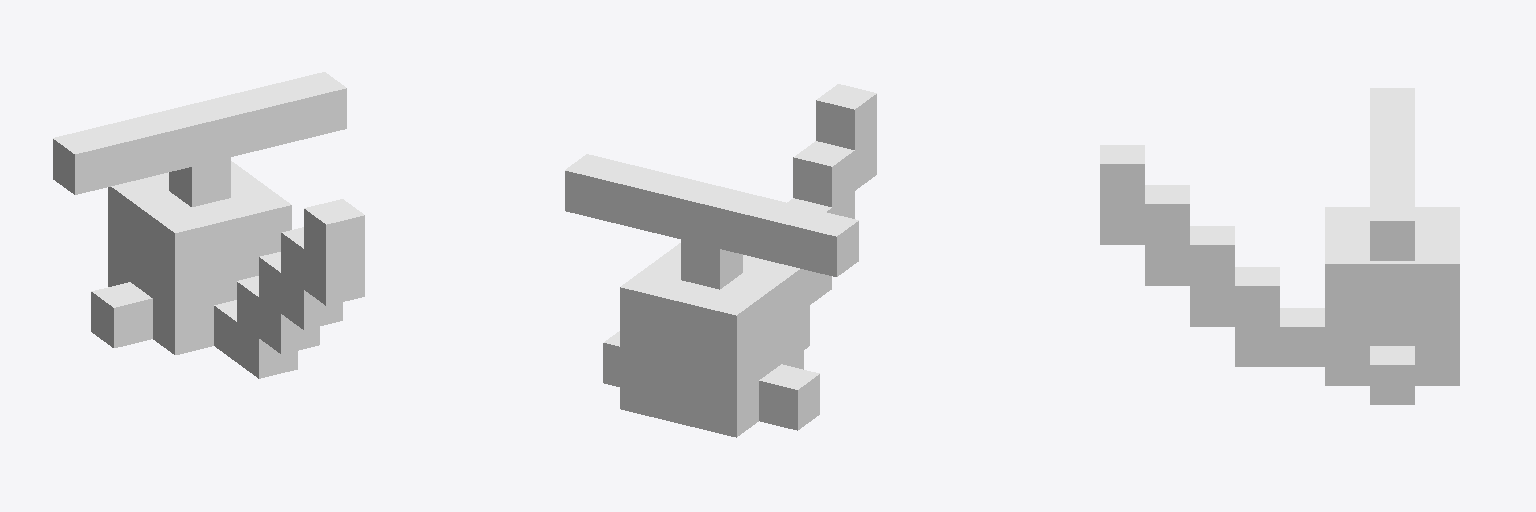
File: Pump_1.obj
3 renders of one model, left to right at view 1: azimuth 30°, elevation 25°; view 2: azimuth 150°, elevation 25°; view 3: azimuth 270°, elevation 25°, orthographic.
Parts seen in each view (by area): view 1: object 1; view 2: object 1; view 3: object 1.
Part boxes in pixels (x1,y1,x2,y2): object 1: (53,72,364,378); object 1: (565,84,876,437); object 1: (1100,88,1459,404).
Bounding box in the file's own units: 0.7 × 0.5 × 0.8.